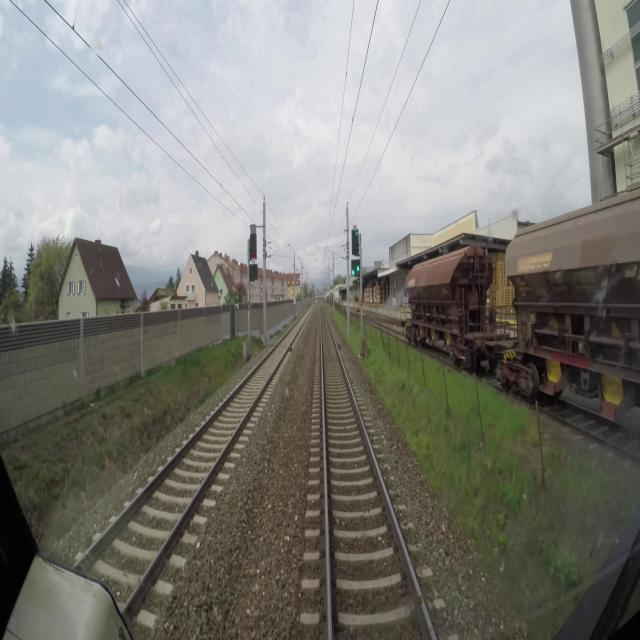rail-track: (83, 314, 306, 604), (321, 304, 432, 639)
